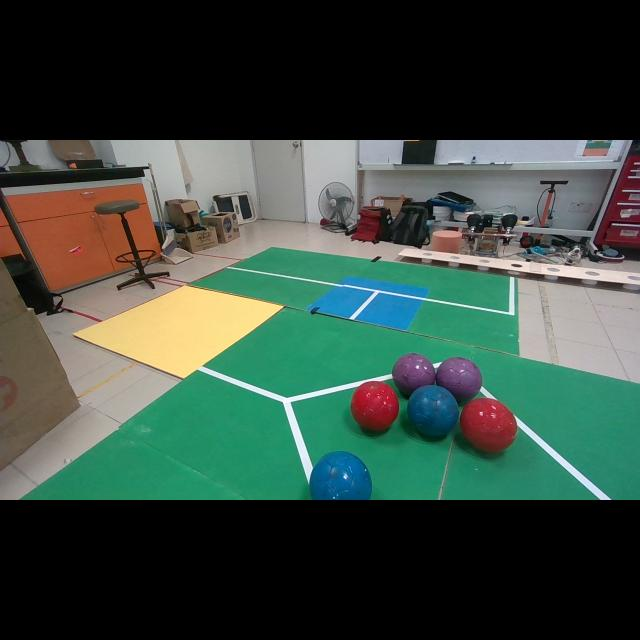B: (309, 451, 372, 500), (408, 386, 459, 436)
P: (435, 358, 482, 402), (392, 352, 435, 398)
R: (460, 398, 518, 452), (351, 381, 399, 431)
